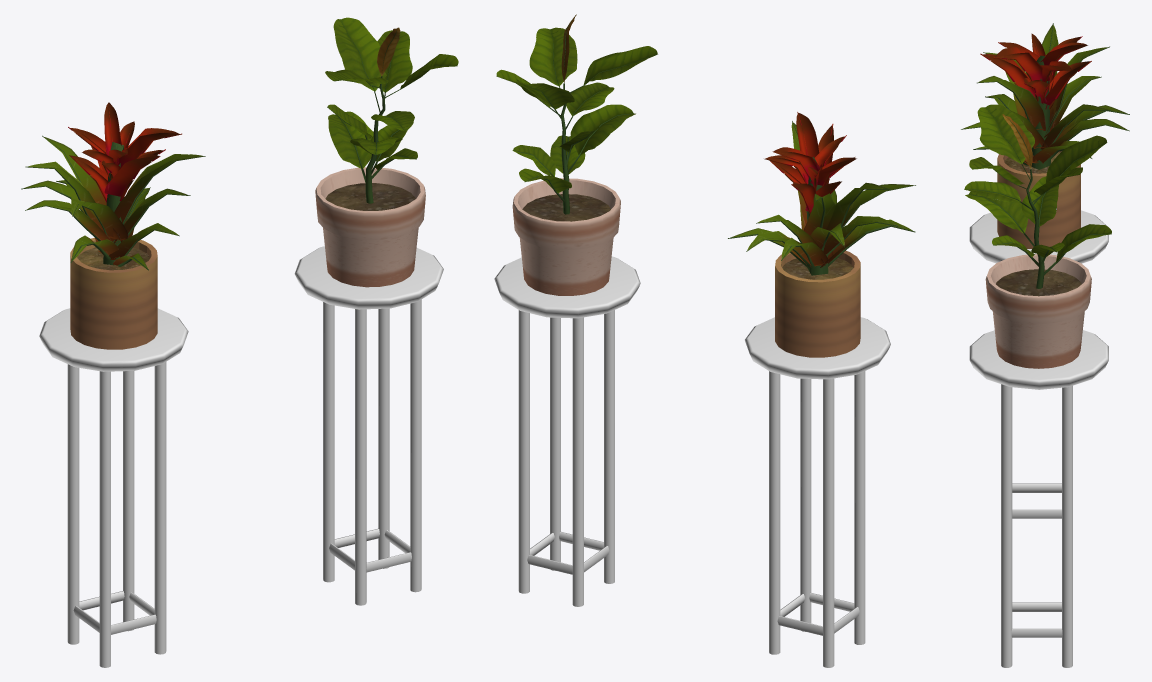
File: decoration pot.fbx
The picture shows the model from 3 angles, left to right: view 1: azimuth 30°, elevation 25°; view 2: azimuth 150°, elevation 25°; view 3: azimuth 270°, elevation 25°; orthographic projection. The views are drawn at different scales.
Parts seen in each view (by area): view 1: table, table2, plant7, pot6, plant6, pot7; view 2: table, table2, pot6, plant7, plant6, pot7; view 3: table2, pot6, plant6, plant7, pot7, table.
Boxes of the visible parts, x1,y1,x2,y2 form: table: [39, 308, 188, 667]; table2: [294, 246, 443, 605]; plant7: [21, 102, 205, 270]; pot6: [315, 167, 425, 287]; plant6: [325, 17, 458, 203]; pot7: [70, 238, 157, 349]; table: [745, 317, 890, 667]; table2: [494, 256, 640, 606]; pot6: [512, 178, 620, 295]; plant7: [728, 112, 915, 275]; plant6: [496, 14, 657, 214]; pot7: [775, 251, 860, 357]; table2: [969, 330, 1108, 667]; pot6: [985, 254, 1091, 368]; plant6: [964, 104, 1111, 288]; plant7: [961, 23, 1129, 169]; pot7: [997, 151, 1080, 248]; table: [969, 210, 1108, 518].
Size of the model in its own units: 107 by 141 by 43.42.
9 materials, 8 textured.
